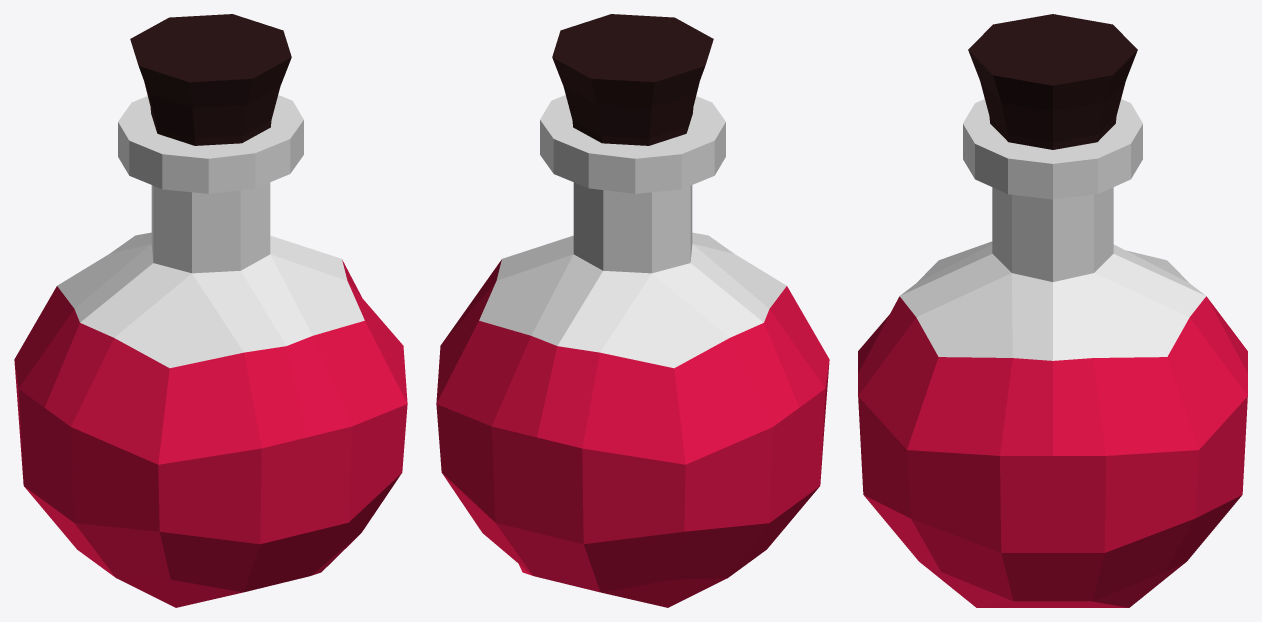
Rendered from potion.fbx.
The picture shows the model from 3 angles, left to right: view 1: azimuth 30°, elevation 25°; view 2: azimuth 150°, elevation 25°; view 3: azimuth 270°, elevation 25°; orthographic projection.
Parts seen in each view (by area): view 1: Cube.010; view 2: Cube.010; view 3: Cube.010.
Boxes of the visible parts, x1,y1,x2,y2 form: Cube.010: [14, 14, 407, 607]; Cube.010: [436, 14, 829, 607]; Cube.010: [858, 14, 1247, 607].
Bounding box in the file's own units: 32.05 × 47.37 × 32.05.
